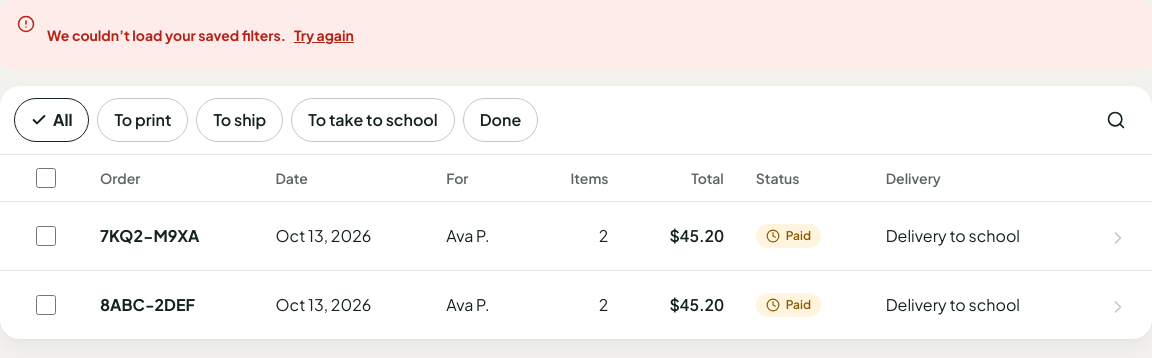
Scenario: the orders list › offers nothing to add until the saved chips have loaded, and says so with Try again when they can't be
Click the button "Try again" at (324, 35), box [294,13,354,57]
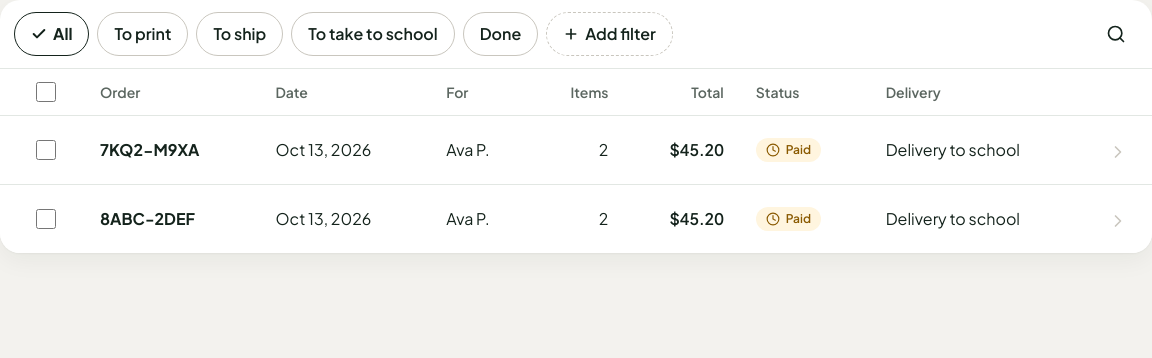
Expected: the button "Add filter" is shown, [546,12,673,56]
Expected: the text "We couldn’t load your saved filters." is gone
